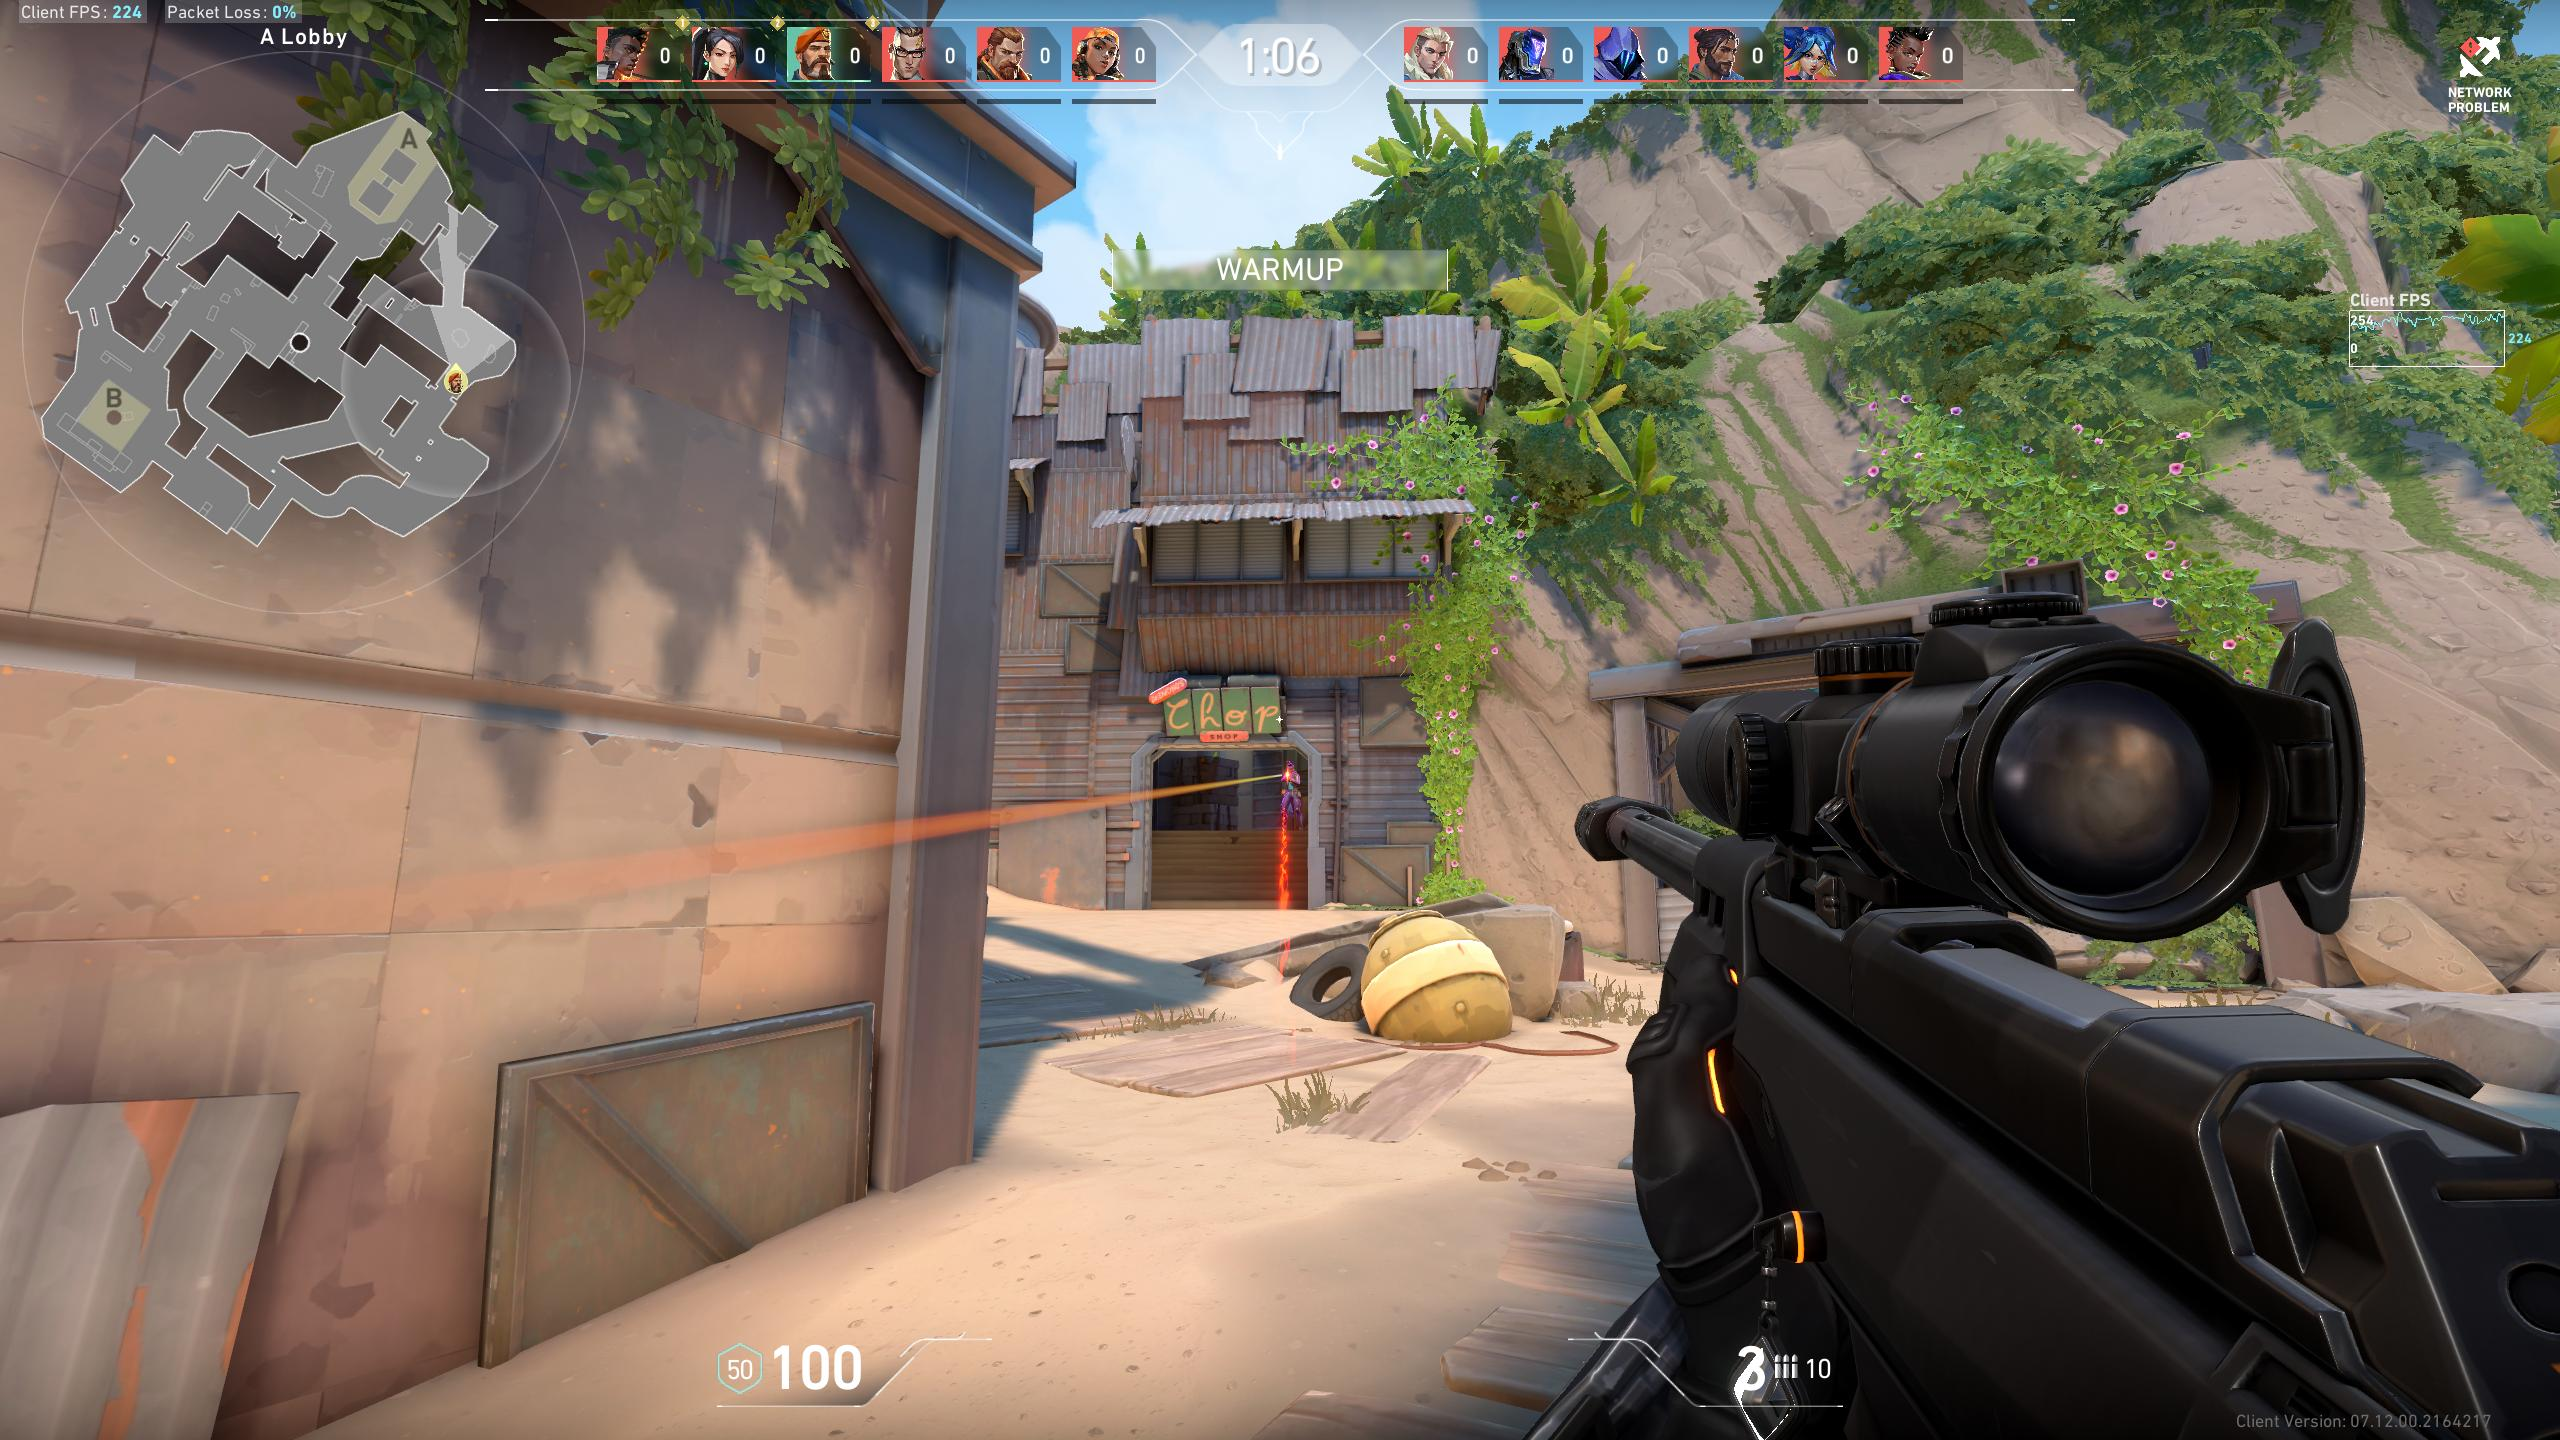enemyBody: (1284, 763, 1306, 821)
